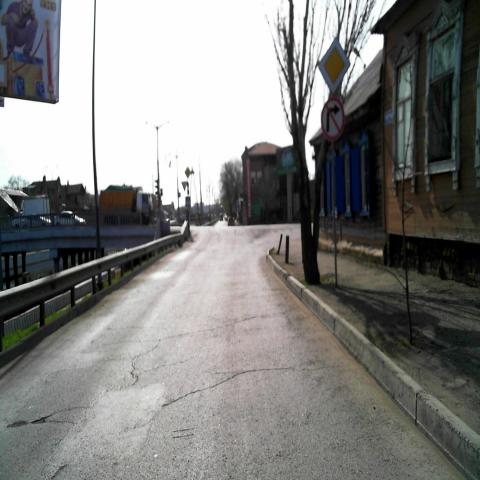3_18: (320, 99, 344, 140)
